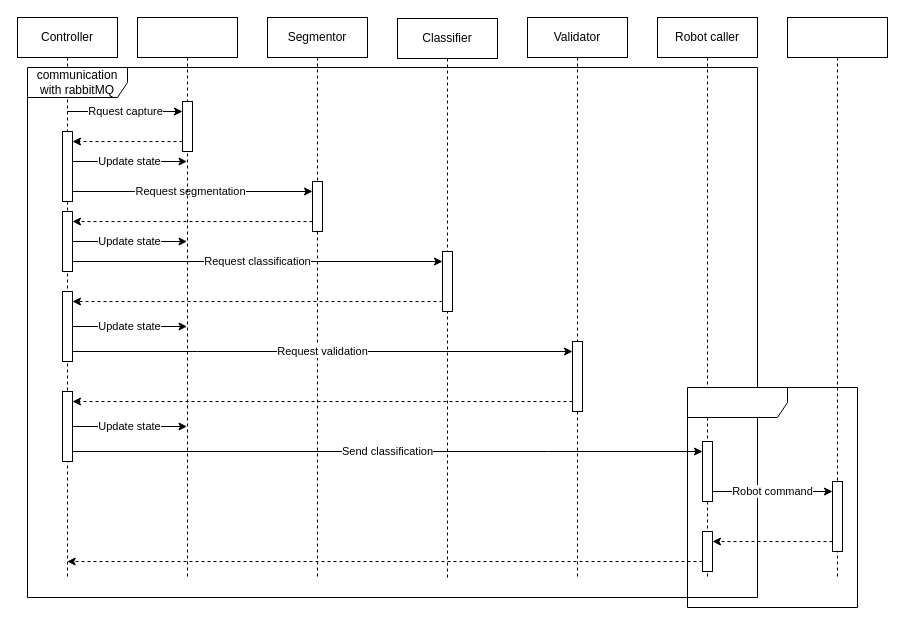
Some shapes in this 905 by 625 pixel diagram are drawn without their labels. The box of each missing label's shape, as (x1, y1, x2, y2) in pixels:
Robot: (786, 16, 888, 578)
socket communication: (686, 386, 858, 608)
Webcam interface: (136, 16, 238, 578)
